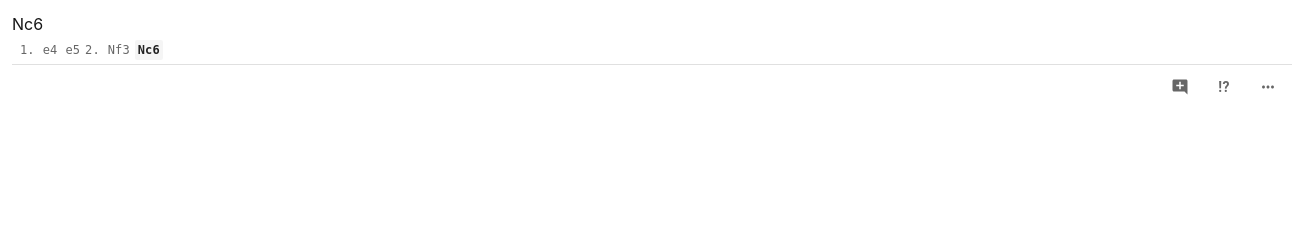
Test case: Delete move (desktop menu) › deletes a main-line move with its continuation and selects the previous move
The width and height of the screenshot is (1292, 246).
Right-click the text "Nf3" at (119, 50), box [108,43,130,57]
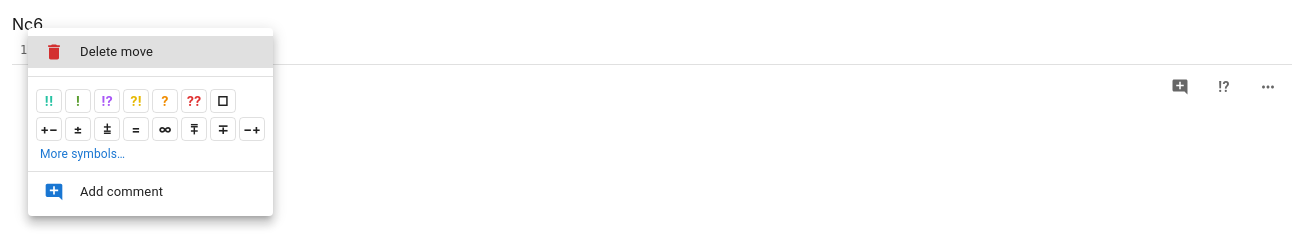
Click the menu item "Delete move" at (150, 52), box [28,36,273,68]
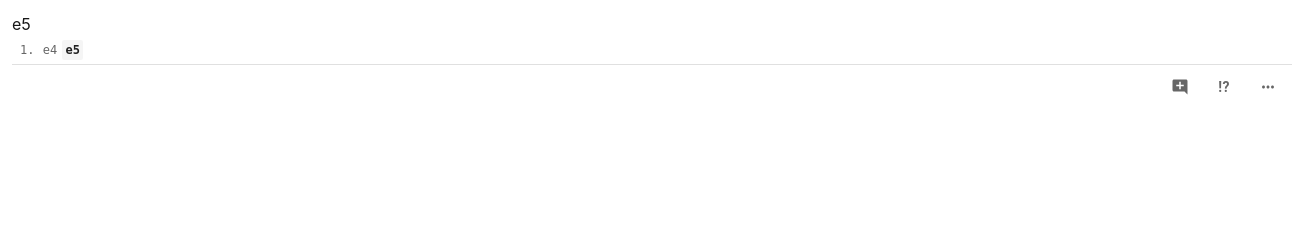
Check: the text "Nf3" is gone
Check: the text "Nc6" is gone
Check: the text with test id "selected" reads "e5", box [12,14,31,34]
